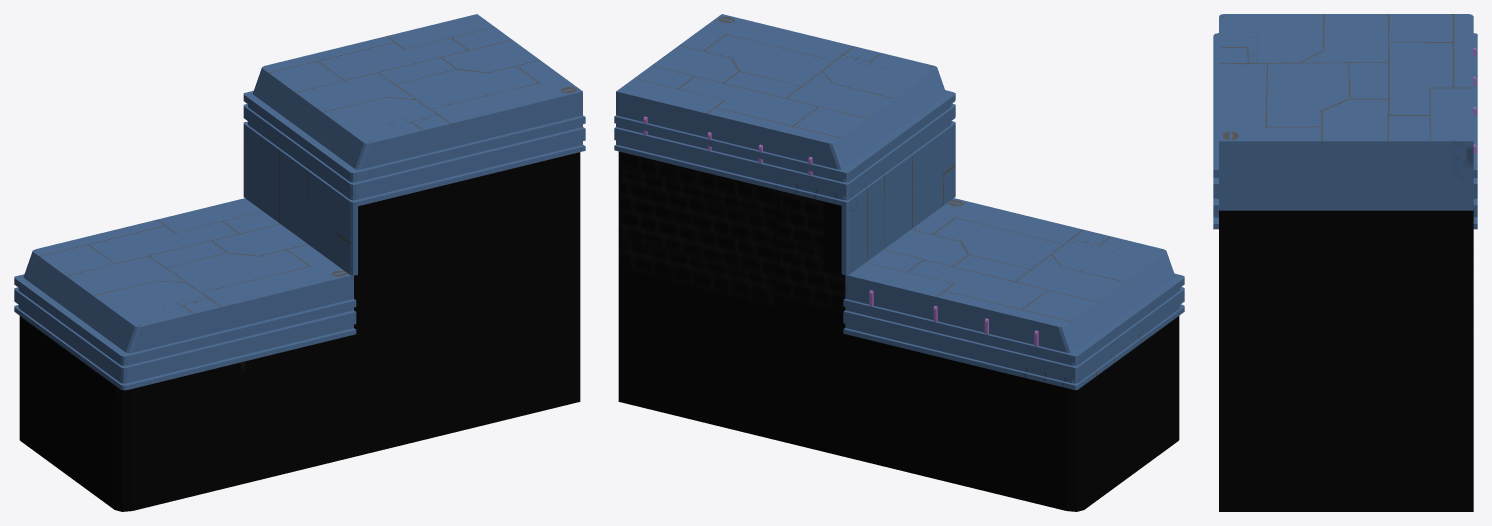
File: 實驗室平台3.fbx
3 views of the same model, side by side, from view 1: azimuth 30°, elevation 25°; view 2: azimuth 150°, elevation 25°; view 3: azimuth 270°, elevation 25° (orthographic). The views are drawn at different scales.
Parts seen in each view (by area): view 1: platformLAB11; view 2: platformLAB11; view 3: platformLAB11.
Part boxes in pixels (x1=…): platformLAB11: x1=14, y1=14, x2=585, y2=511; platformLAB11: x1=614, y1=14, x2=1184, y2=511; platformLAB11: x1=1213, y1=14, x2=1477, y2=511.
Size of the model in its own units: 2182 by 1395 by 897.
